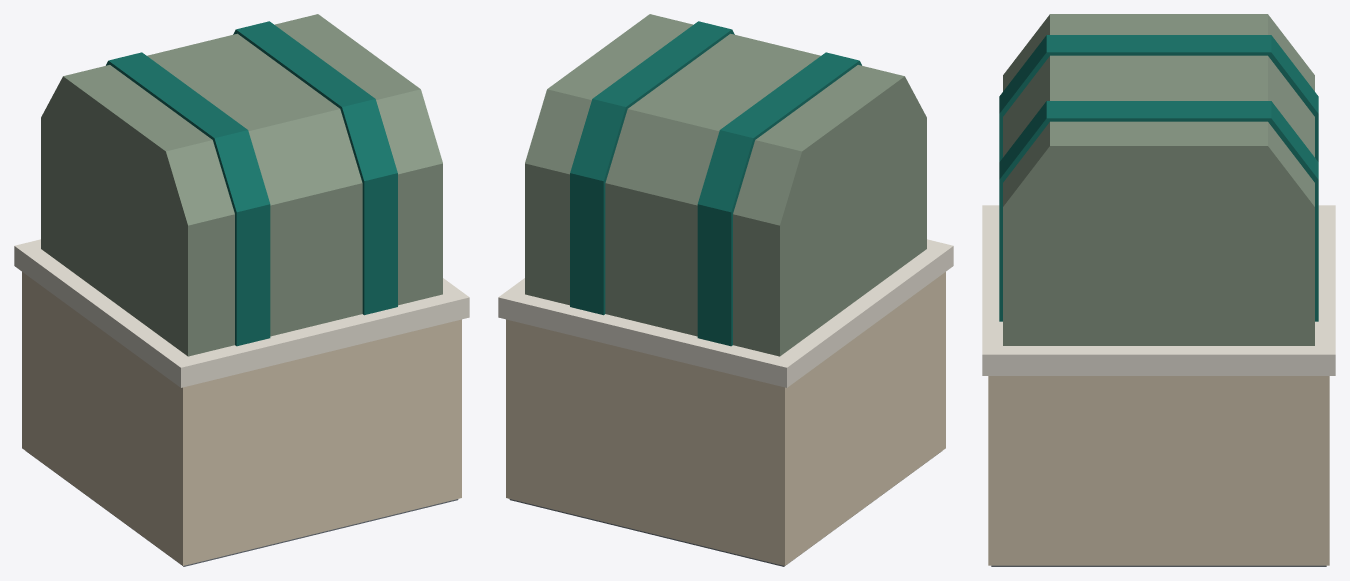
Rendered from planter_1x1.glb.
The picture shows the model from 3 angles, left to right: view 1: azimuth 30°, elevation 25°; view 2: azimuth 150°, elevation 25°; view 3: azimuth 270°, elevation 25°; orthographic projection. The views are drawn at different scales.
Visible parts, largest first — view 1: planter_1x1_mesh; view 2: planter_1x1_mesh; view 3: planter_1x1_mesh.
Part boxes in pixels (box(x1,y1,x2,y2)): planter_1x1_mesh: box(14, 14, 469, 566); planter_1x1_mesh: box(498, 14, 953, 566); planter_1x1_mesh: box(982, 14, 1335, 566).
Size of the model in its own units: 1.2 by 1.57 by 1.2.
1 material, 1 textured.
